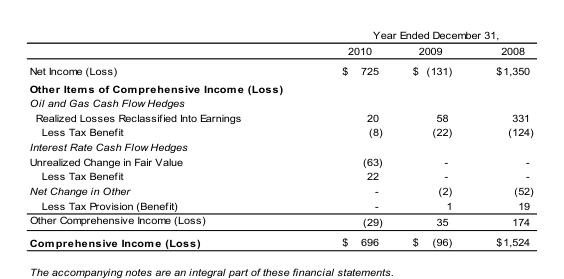table: (28, 28, 532, 247)
table column: (28, 28, 290, 247), (290, 28, 396, 247), (396, 28, 473, 247), (473, 28, 532, 247)
table column header: (28, 28, 532, 60)
table projected row header: (28, 79, 532, 95), (28, 95, 532, 109), (28, 139, 532, 153)
table row: (28, 60, 532, 79), (28, 212, 532, 231), (28, 42, 532, 60), (28, 79, 532, 95), (28, 231, 532, 247), (28, 109, 532, 124), (28, 124, 532, 139), (28, 153, 532, 168), (28, 168, 532, 183), (28, 197, 532, 212), (28, 28, 532, 42), (28, 95, 532, 109), (28, 139, 532, 153), (28, 183, 532, 197)
table spanning cell: (290, 28, 532, 42)
